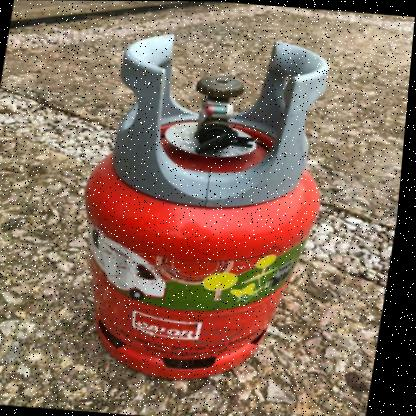gas-tank: (24, 9, 379, 412)
